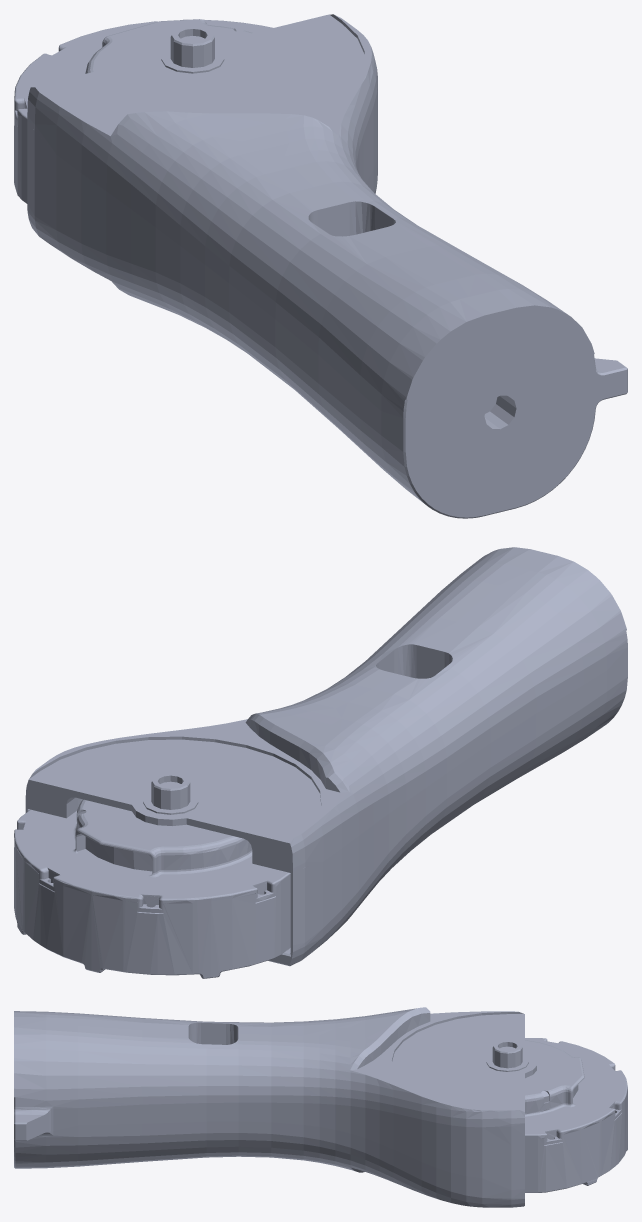
Rendered from right_shoulder_yaw_link.obj.
3 views of the same model, one above another, from view 1: azimuth 30°, elevation 25°; view 2: azimuth 150°, elevation 25°; view 3: azimuth 270°, elevation 25° (orthographic). The views are drawn at different scales.
Visible parts, largest first — view 1: right_shoulder_yaw_link-mesh; view 2: right_shoulder_yaw_link-mesh; view 3: right_shoulder_yaw_link-mesh.
Boxes of the visible parts, left/top/right/bottom form: right_shoulder_yaw_link-mesh: left=14, top=14, right=627, bottom=518; right_shoulder_yaw_link-mesh: left=14, top=547, right=627, bottom=978; right_shoulder_yaw_link-mesh: left=14, top=1007, right=627, bottom=1207.
Size of the model in its own units: 0.097 by 0.06 by 0.2463.
